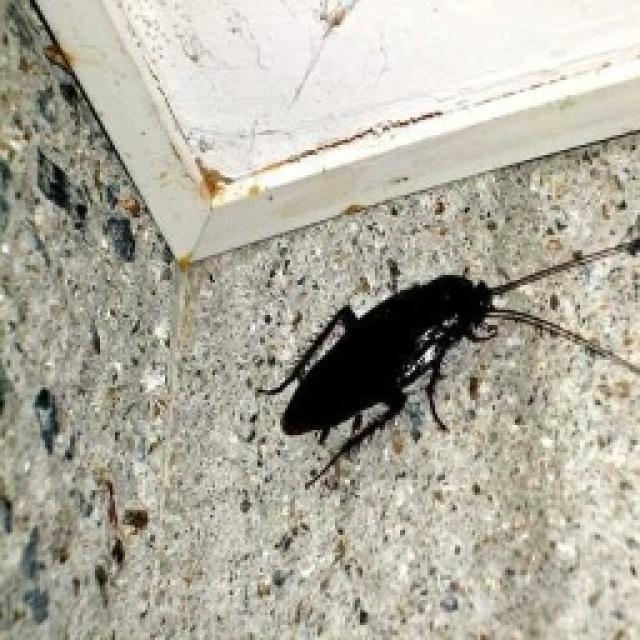cockroach: (254, 230, 638, 495)
